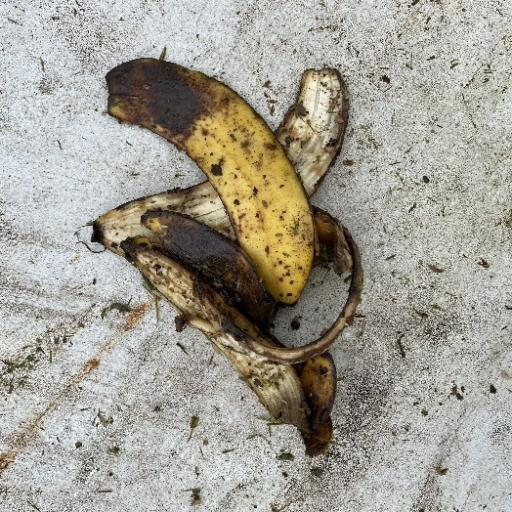Waste: (90, 48, 364, 456)
